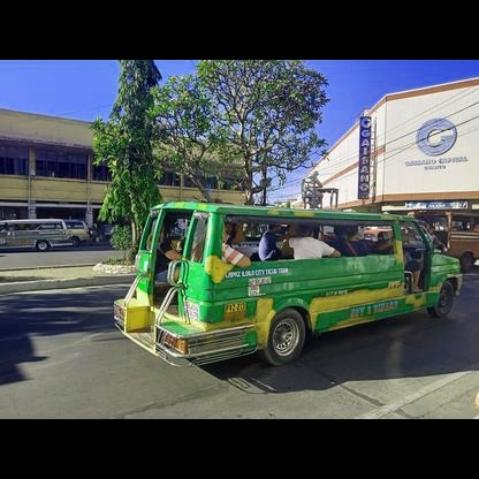jeepney: (118, 188, 470, 357)
